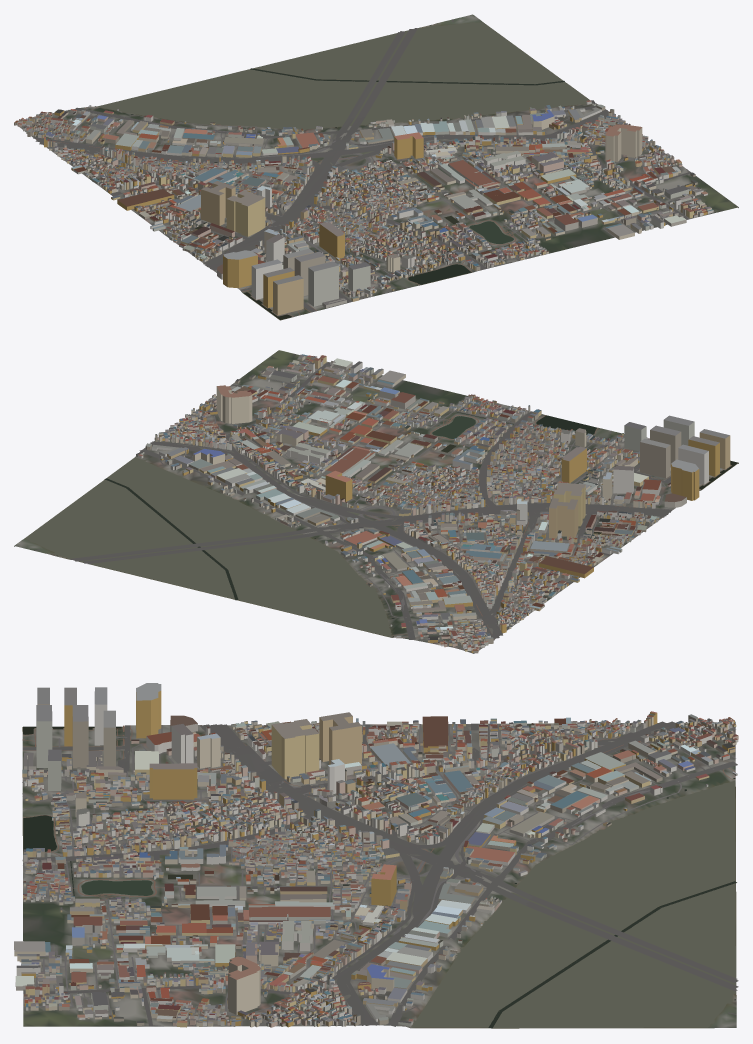
3 renders of one model, top to bottom at view 1: azimuth 30°, elevation 25°; view 2: azimuth 150°, elevation 25°; view 3: azimuth 270°, elevation 25°, orthographic. The views are drawn at different scales.
Visible parts, largest first — view 1: buildings, water, ground, roads; view 2: buildings, water, ground, roads; view 3: buildings, water, ground, roads.
Boxes of the visible parts, x1=… form: buildings: x1=14, y1=100, x2=713, y2=315; water: x1=95, y1=22, x2=589, y2=319; ground: x1=17, y1=14, x2=738, y2=320; roads: x1=22, y1=19, x2=708, y2=316; buildings: x1=136, y1=354, x2=730, y2=653; water: x1=25, y1=411, x2=737, y2=637; ground: x1=14, y1=350, x2=738, y2=653; roads: x1=34, y1=360, x2=731, y2=650; buildings: x1=14, y1=683, x2=738, y2=1027; water: x1=23, y1=726, x2=736, y2=1028; ground: x1=22, y1=721, x2=736, y2=1028; roads: x1=22, y1=721, x2=738, y2=1026.
Size of the model in its own units: 1425 by 108 by 1425.
